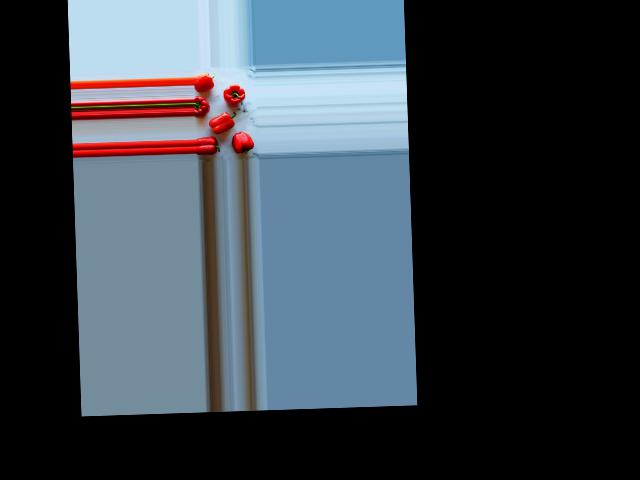bell_pepper: (194, 96, 210, 118)
